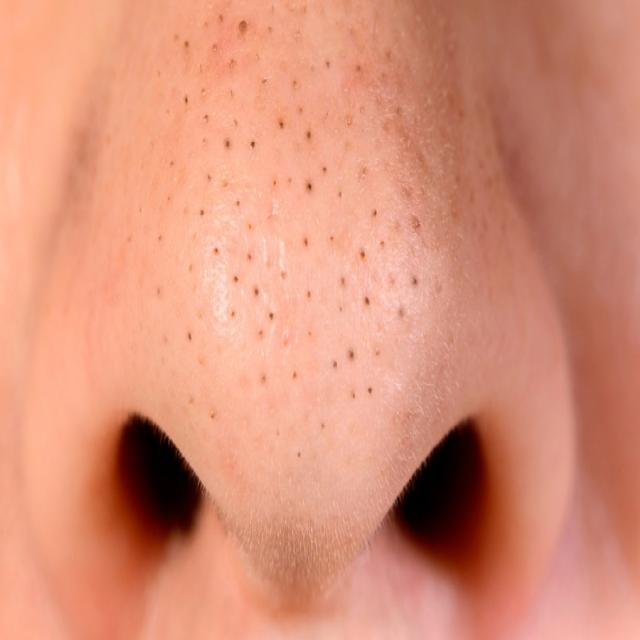Acne: (131, 1, 457, 434)
